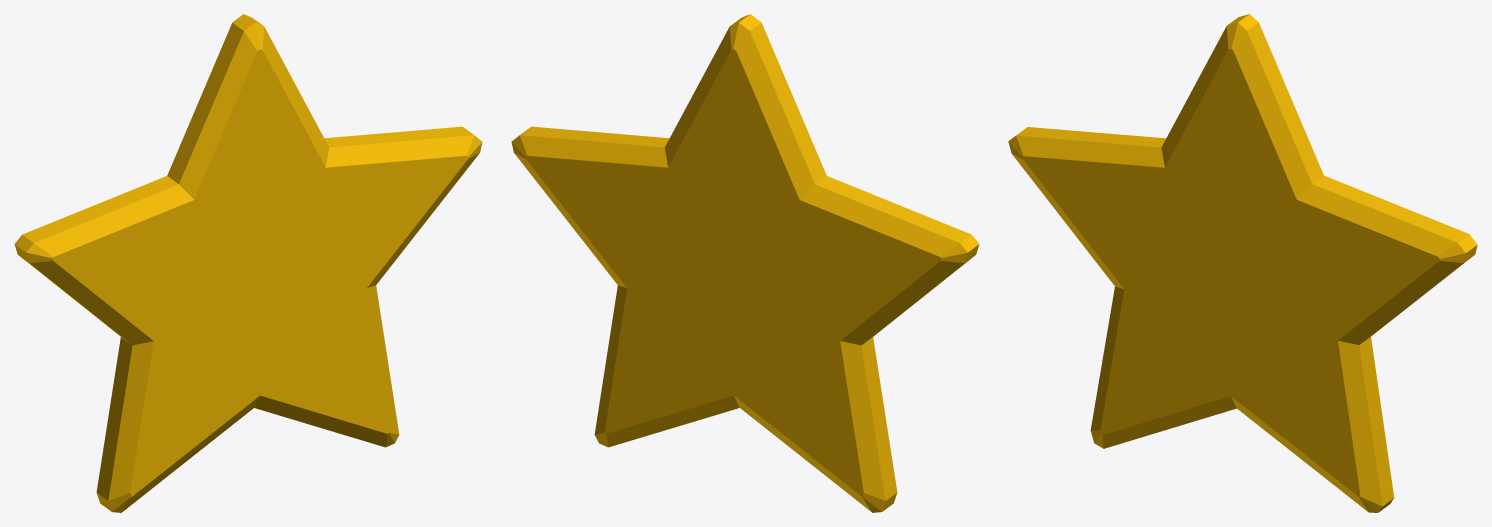
File: Star_2.fbx
The picture shows the model from 3 angles, left to right: view 1: azimuth 30°, elevation 25°; view 2: azimuth 150°, elevation 25°; view 3: azimuth 330°, elevation 25°; orthographic projection.
Visible parts, largest first — view 1: Star_2; view 2: Star_2; view 3: Star_2.
Boxes of the visible parts, x1,y1,x2,y2 form: Star_2: [14, 14, 482, 512]; Star_2: [511, 14, 979, 512]; Star_2: [1008, 14, 1477, 512].
Size of the model in its own units: 0.2166 by 0.2076 by 0.0195.
